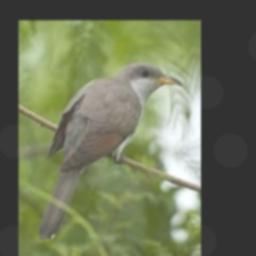Cuckoo: (39, 62, 181, 242)
